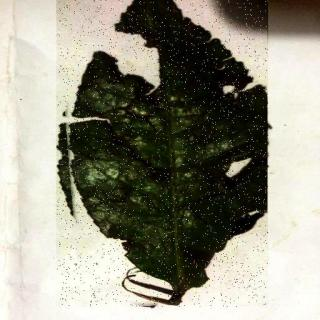Red Leaf Spot: (58, 1, 269, 308)
